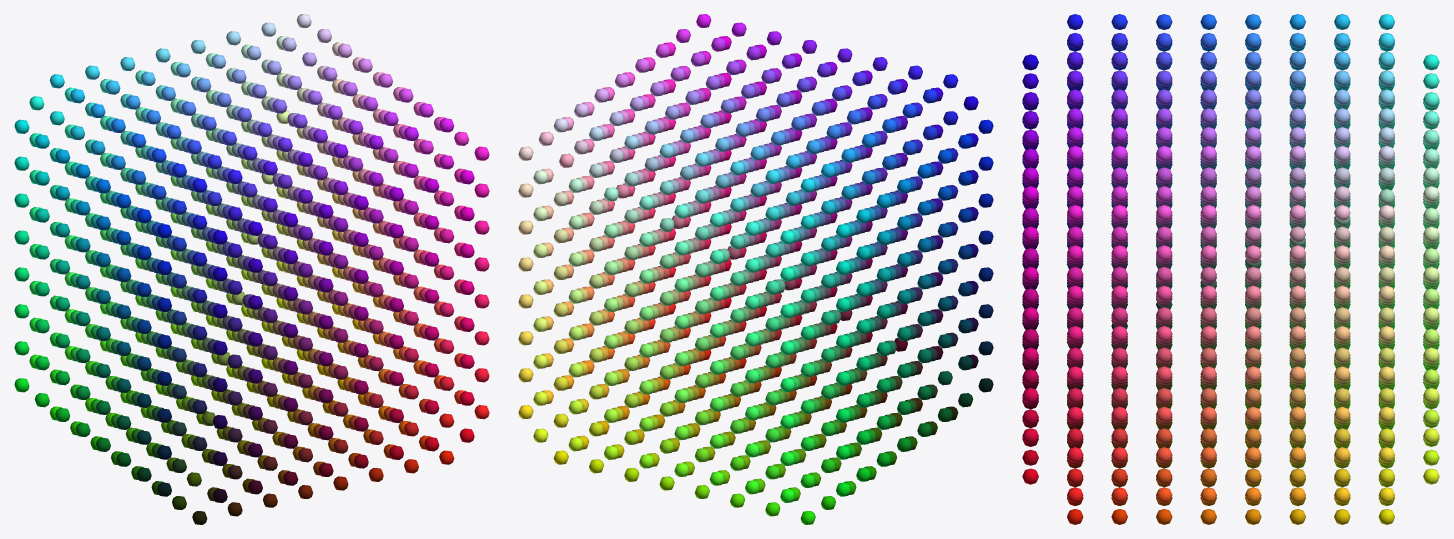
File: Matlan-05-v.obj
3 views of the same model, side by side, from view 1: azimuth 30°, elevation 25°; view 2: azimuth 150°, elevation 25°; view 3: azimuth 270°, elevation 25° (orthographic). The views are drawn at different scales.
Parts seen in each view (by area): view 1: Cube_(1,_0,_1)_Mesh_(1,_0,_1); view 2: Cube_(1,_0,_1)_Mesh_(1,_0,_1); view 3: Cube_(1,_0,_1)_Mesh_(1,_0,_1).
Boxes of the visible parts, x1,y1,x2,y2 form: Cube_(1,_0,_1)_Mesh_(1,_0,_1): (14, 14, 489, 524); Cube_(1,_0,_1)_Mesh_(1,_0,_1): (518, 14, 993, 524); Cube_(1,_0,_1)_Mesh_(1,_0,_1): (1022, 14, 1439, 524).
Size of the model in its own units: 16.67 by 16.67 by 16.67.
